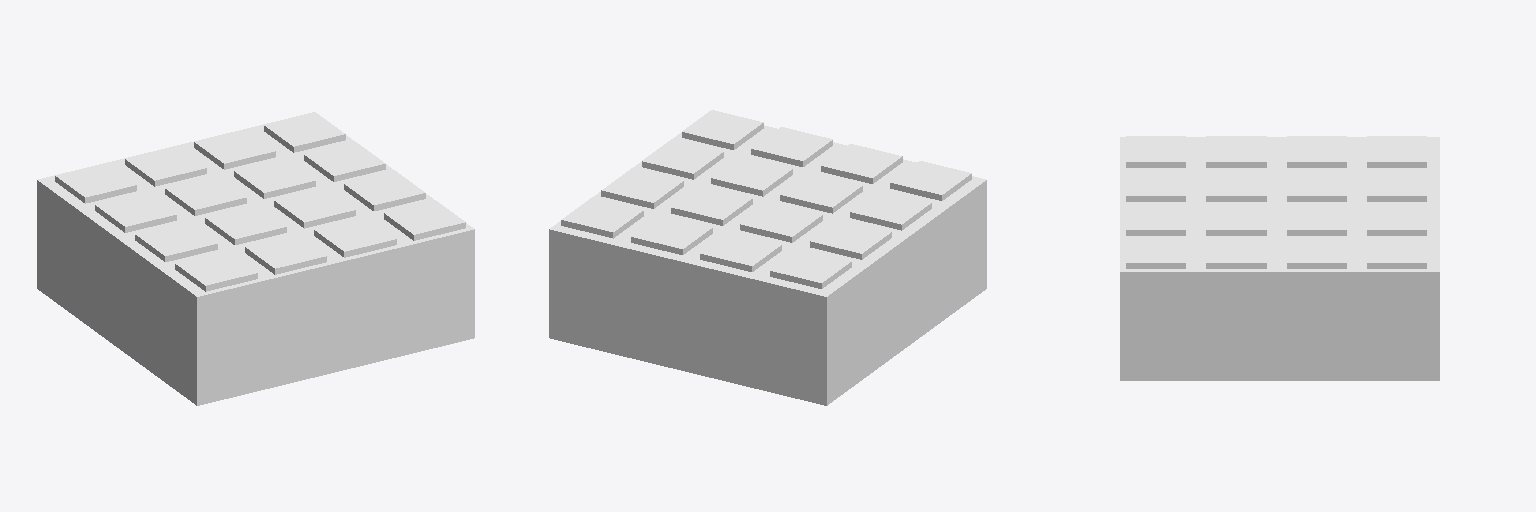
The model's file is mart-16.obj.
The picture shows the model from 3 angles: view 1: azimuth 30°, elevation 25°; view 2: azimuth 150°, elevation 25°; view 3: azimuth 270°, elevation 25°; orthographic projection.
Visible parts, largest first — view 1: object 1; view 2: object 1; view 3: object 1.
Boxes of the visible parts, box(x1,y1,x2,y2) form: object 1: box(37, 112, 474, 405); object 1: box(549, 110, 986, 405); object 1: box(1120, 136, 1439, 380).
Bounding box in the file's own units: 4.8 × 1.9 × 4.8.